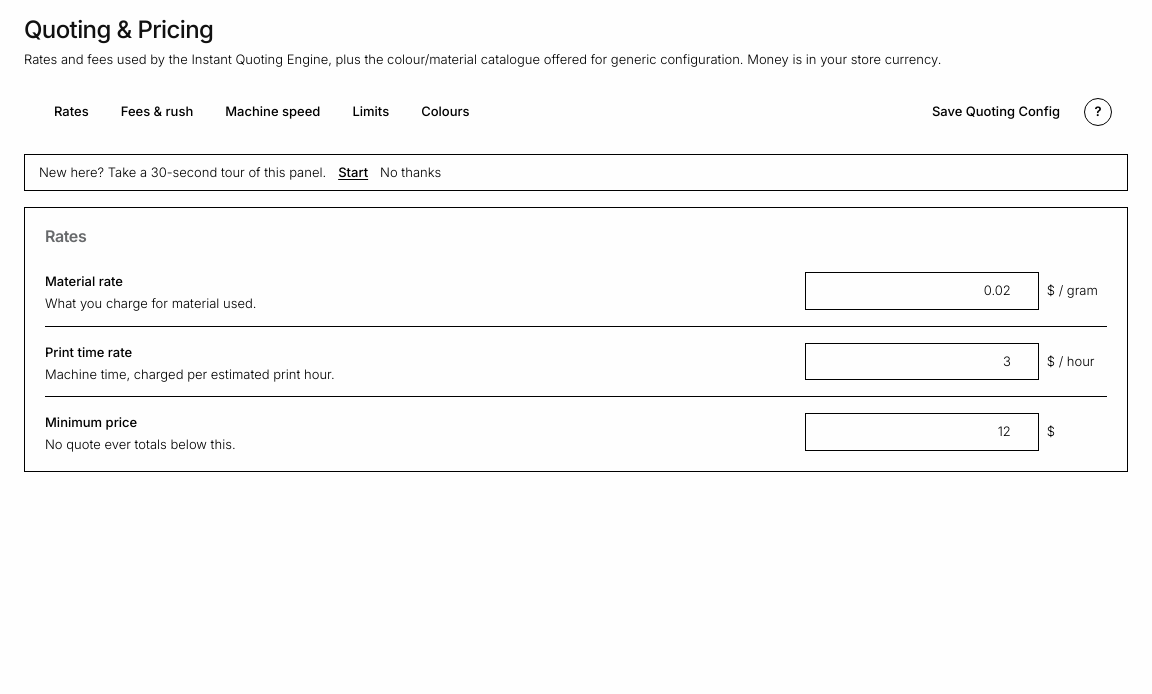
Test: QuotingPricingManagement — sub-view tabs › hides surcharge fields that do not apply to the expedite mode
Expected: the number field labelled "Material rate" is shown, [805,272,1039,310]
Click the tab "Fees & rush". click: (157, 112)
box: [107,96,207,128]
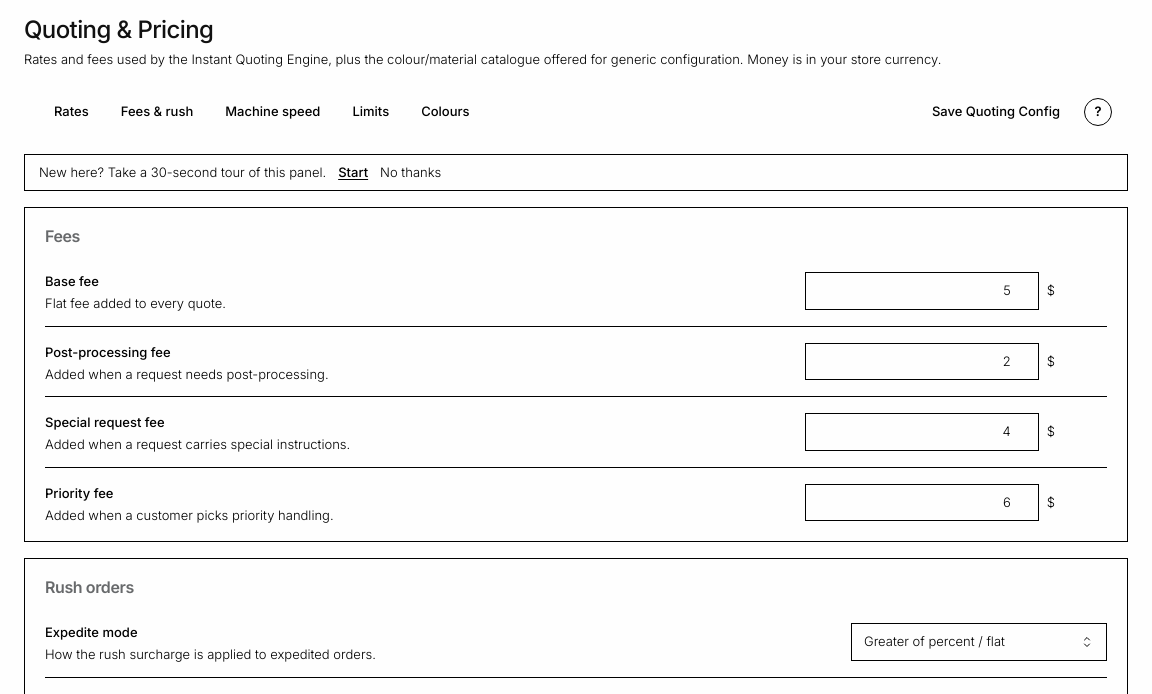
Select "Percent only" in the dropdown labelled "Expedite mode". click: (979, 642)
box: [851,623,1107,660]
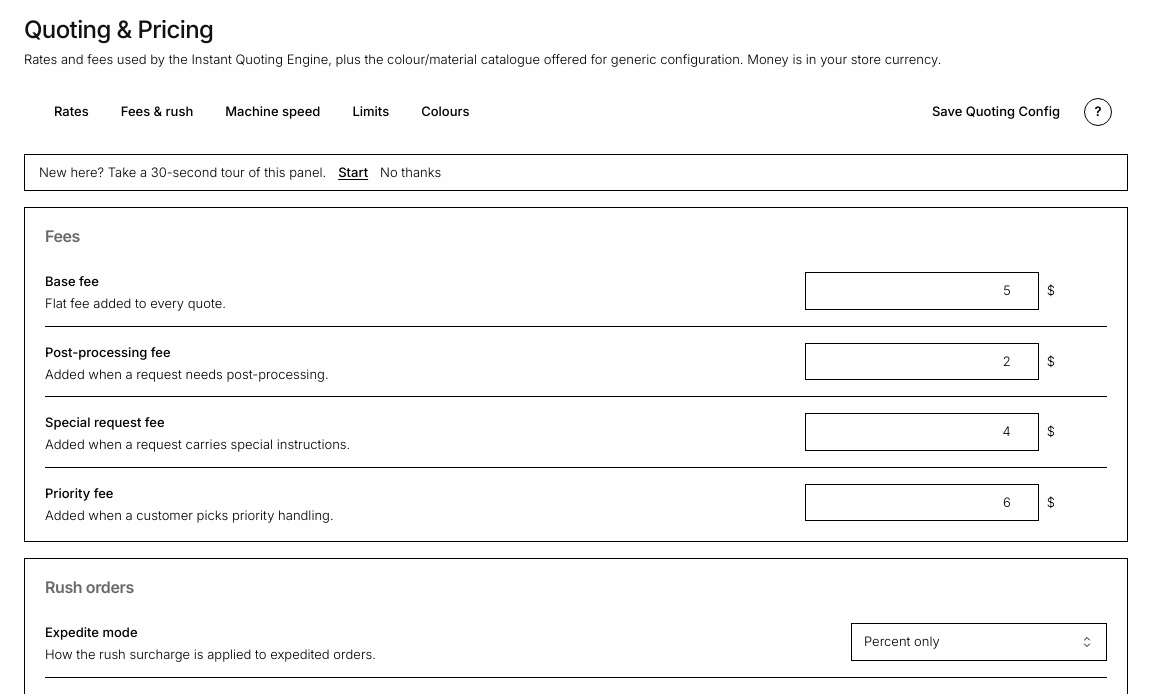
Select "Flat only" in the dropdown labelled "Expedite mode". click: (979, 642)
box: [851,623,1107,660]
(page scrolled)
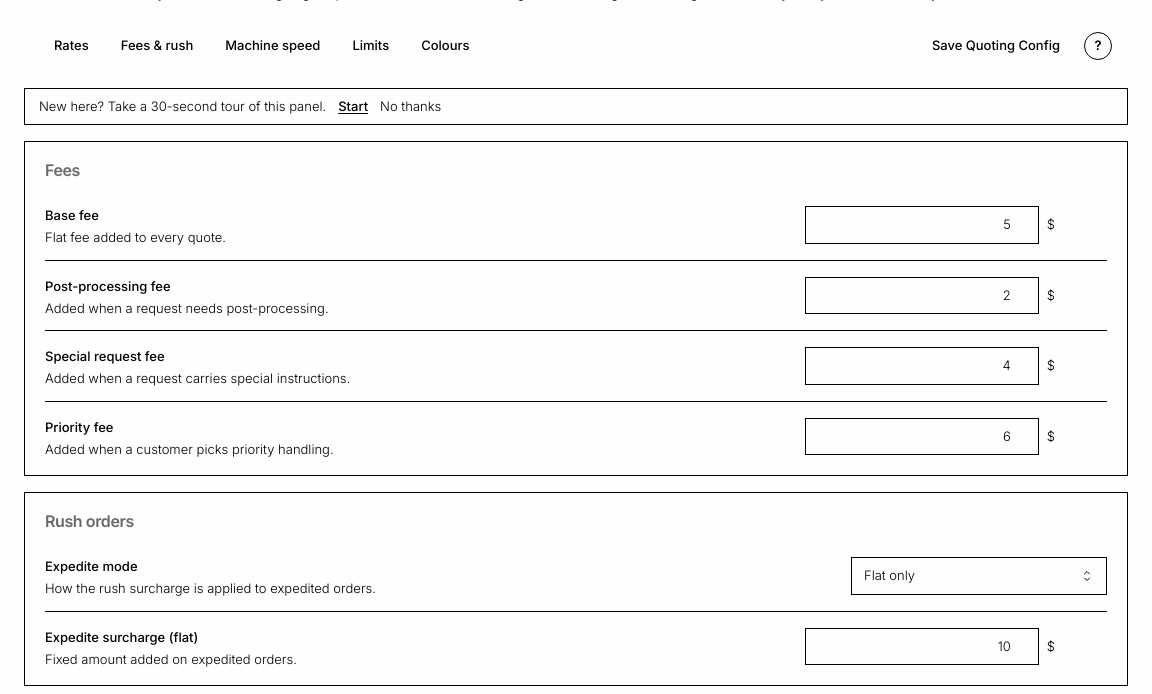
Now the number field labelled "Expedite surcharge (flat)" is shown, box [805,628,1039,665]
